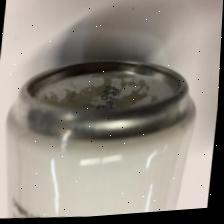metal: (0, 46, 206, 224)
